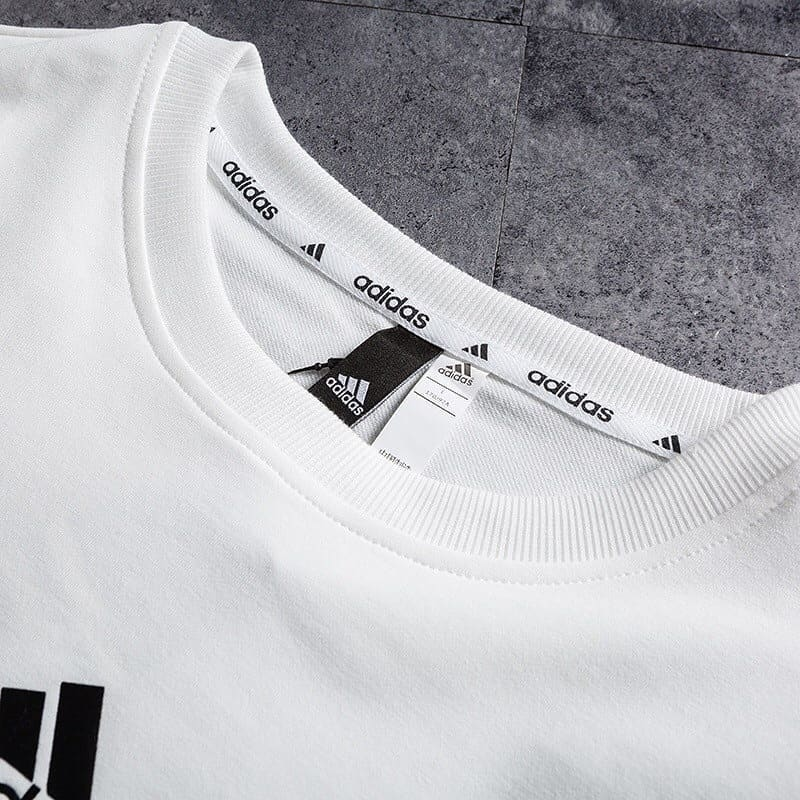adidas_1: (305, 358, 393, 424)
adids_text: (350, 262, 436, 338)
